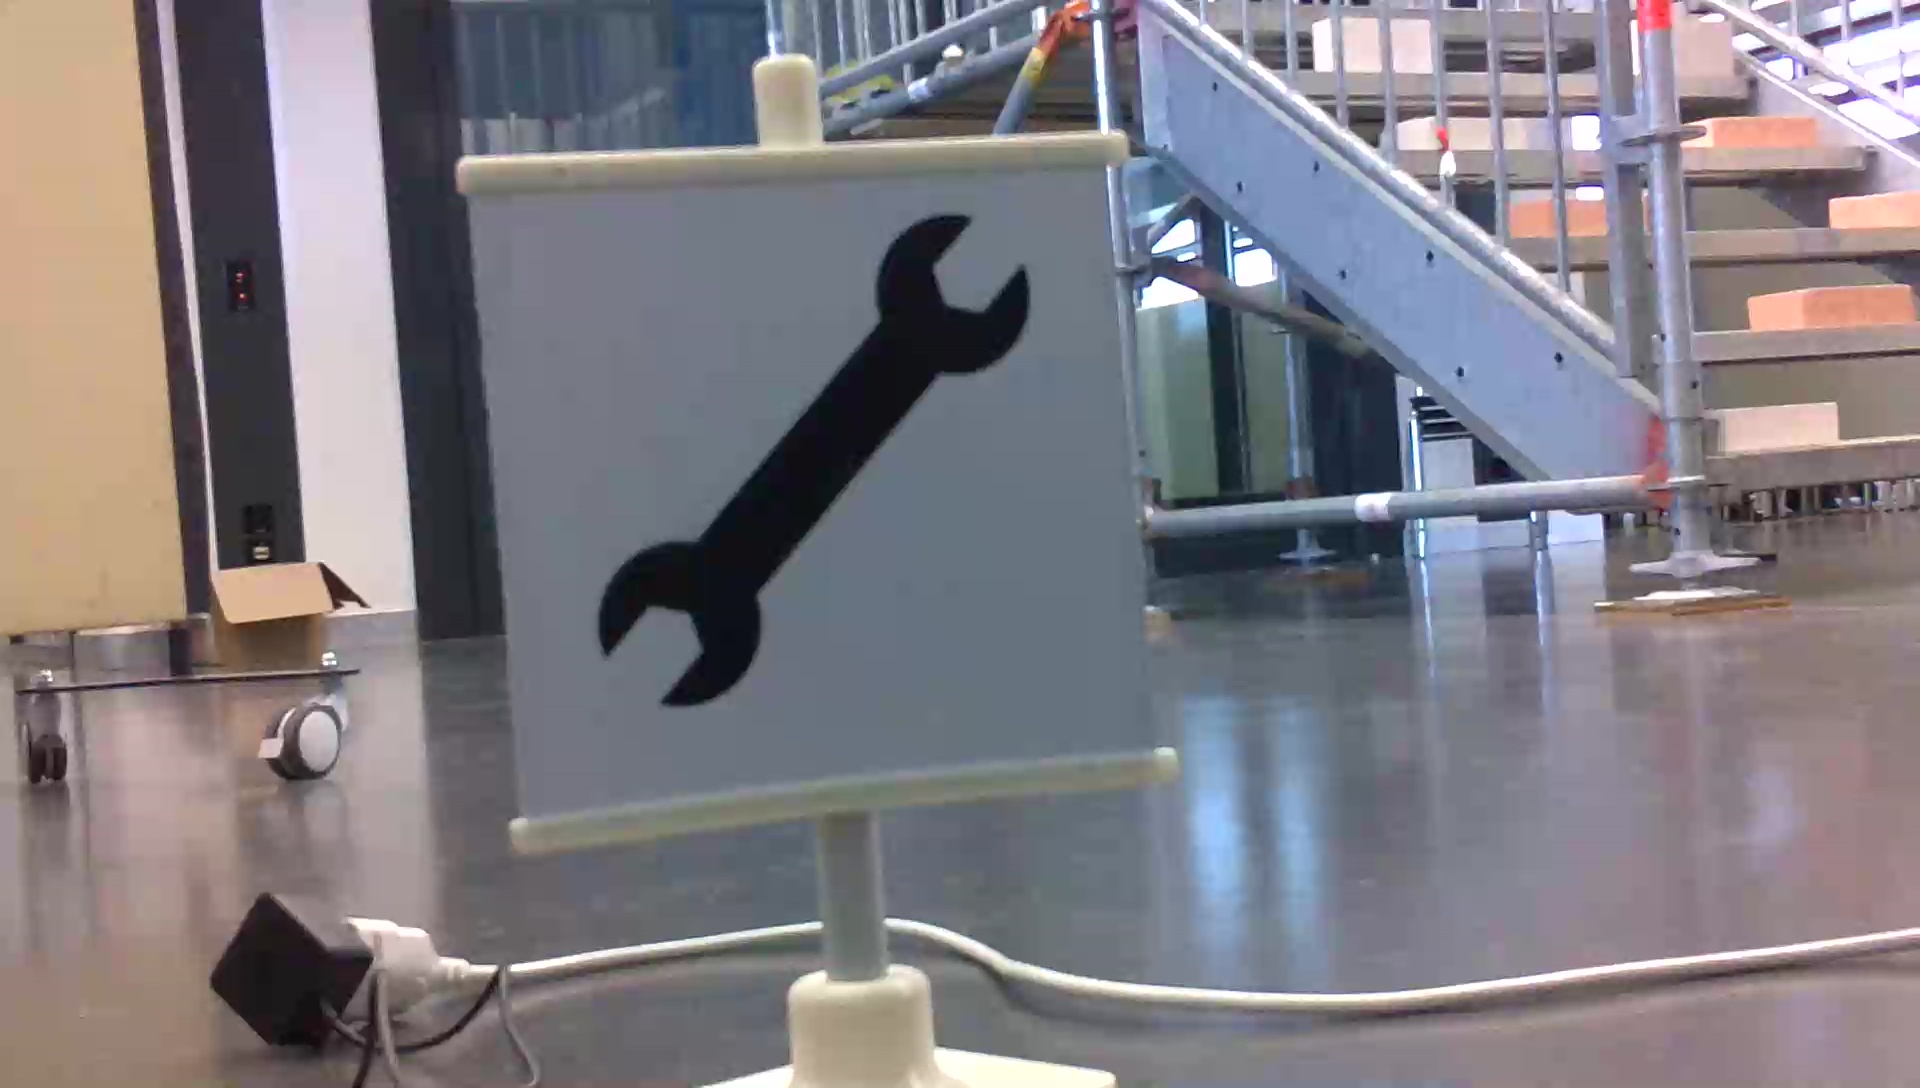brick: (1750, 284, 1911, 324), (1721, 401, 1840, 452), (1695, 117, 1818, 150), (1668, 22, 1730, 78), (1832, 190, 1920, 226)
wrench: (578, 206, 1047, 723)
